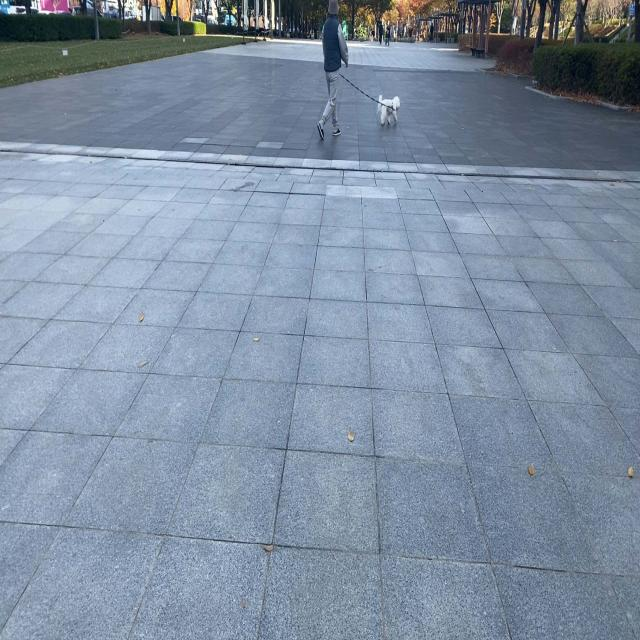Leashed_Dog: (329, 68, 402, 126)
